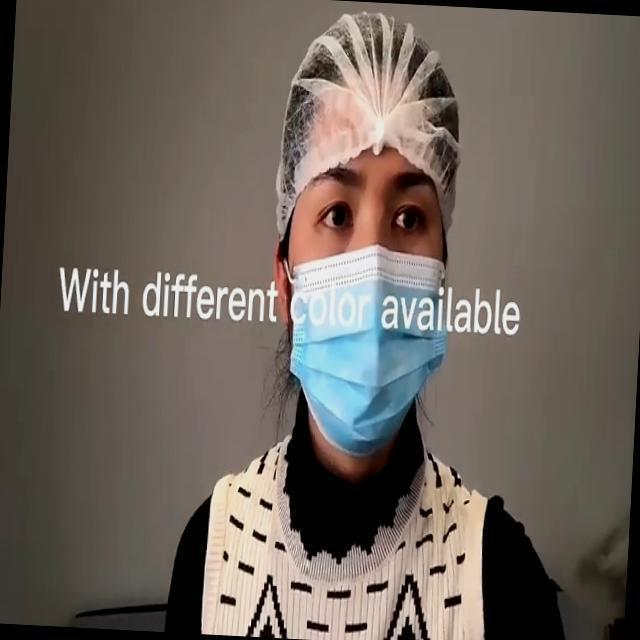gloves: (298, 27, 446, 166)
